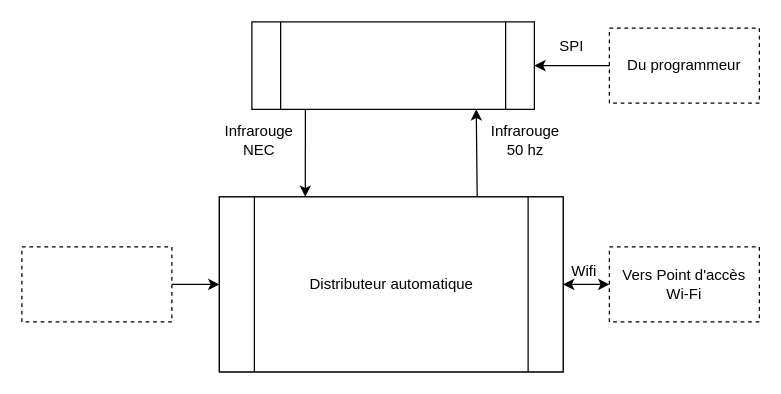
This 781x394 diagram has some shape labels left out. Here are the shapes that lost their labels. From the top down, the box of each, then its label:
(251, 21, 534, 109): Balise infrarouge (tag)
(21, 246, 172, 322): De prise murale 120V
